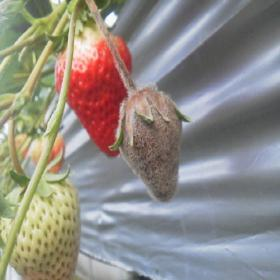Gray Mold: (108, 67, 193, 203)
